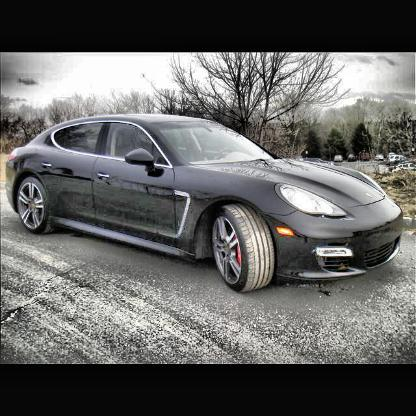Porsche Panamera Sedan 2012: (7, 114, 406, 296)
